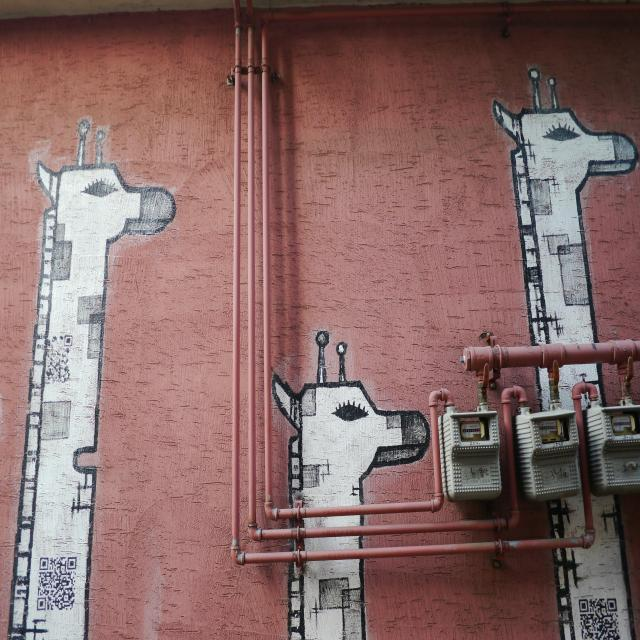-: (8, 120, 176, 640), (494, 68, 640, 640), (273, 328, 433, 640)
